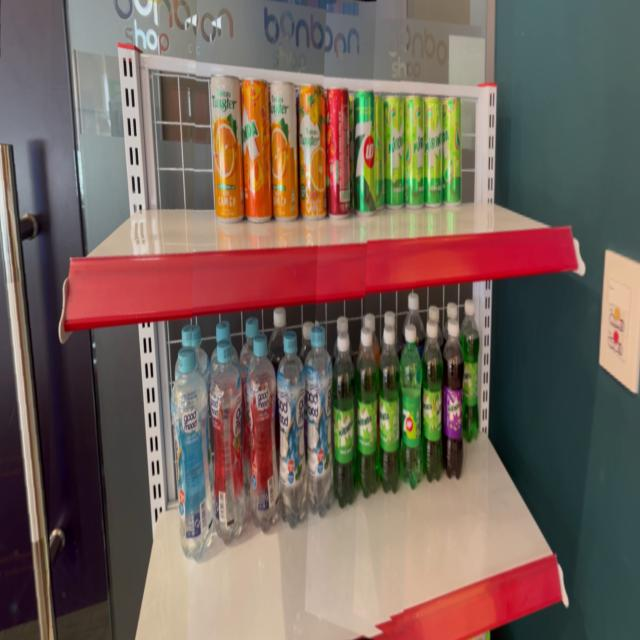SPVB: (168, 355, 211, 564), (212, 341, 244, 551), (246, 331, 278, 536), (279, 331, 308, 527), (210, 76, 243, 228), (307, 326, 333, 516), (334, 330, 360, 507), (242, 77, 270, 226), (271, 80, 299, 228), (400, 326, 424, 488), (379, 327, 402, 494), (358, 325, 380, 499), (300, 84, 326, 224), (425, 320, 446, 482), (352, 89, 377, 217), (328, 85, 351, 220), (446, 322, 465, 480), (462, 299, 482, 442), (383, 90, 406, 211), (443, 90, 464, 211), (406, 88, 426, 210), (424, 95, 443, 210)
Splitline: (64, 224, 576, 333), (64, 560, 564, 639)
